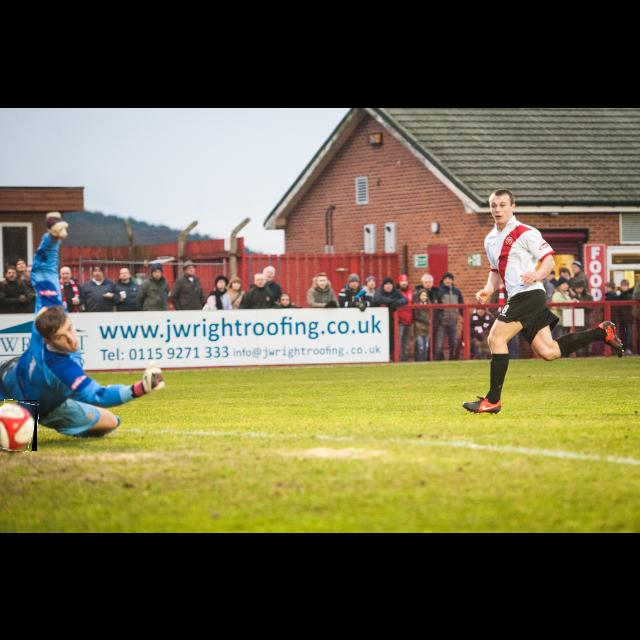Football: (0, 400, 37, 451)
